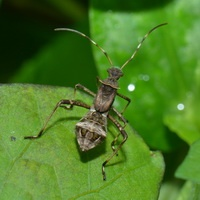insect: (24, 23, 166, 179)
